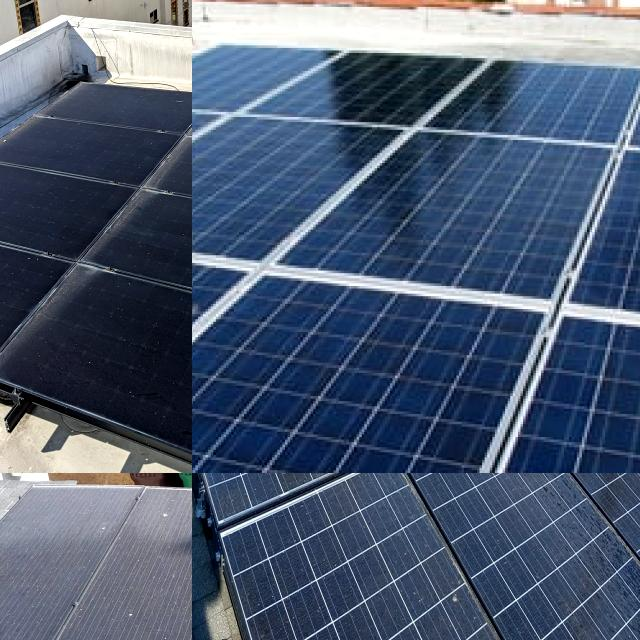crack: (345, 137, 605, 318), (415, 49, 640, 182)
dust: (86, 298, 192, 424), (2, 516, 92, 634), (480, 473, 536, 640), (556, 473, 620, 618), (114, 514, 192, 627), (329, 475, 381, 640), (212, 473, 281, 588), (378, 473, 455, 569), (0, 248, 78, 312), (0, 179, 86, 231), (476, 473, 531, 554), (21, 127, 134, 162), (155, 218, 192, 275)
